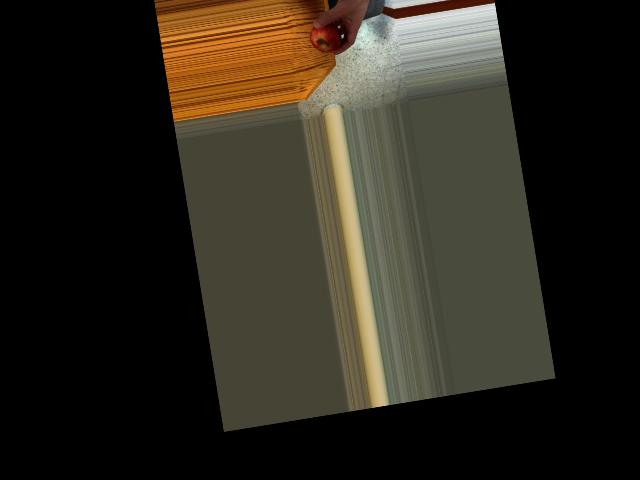apple: (306, 16, 343, 55)
